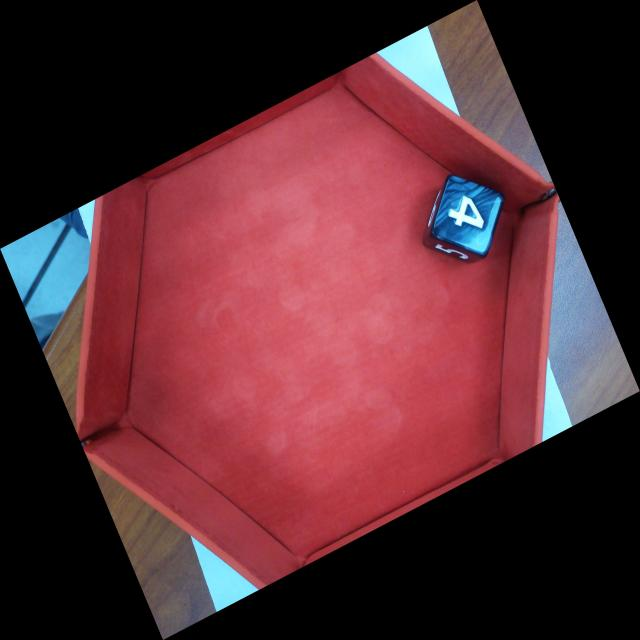dice: (426, 171, 508, 262)
